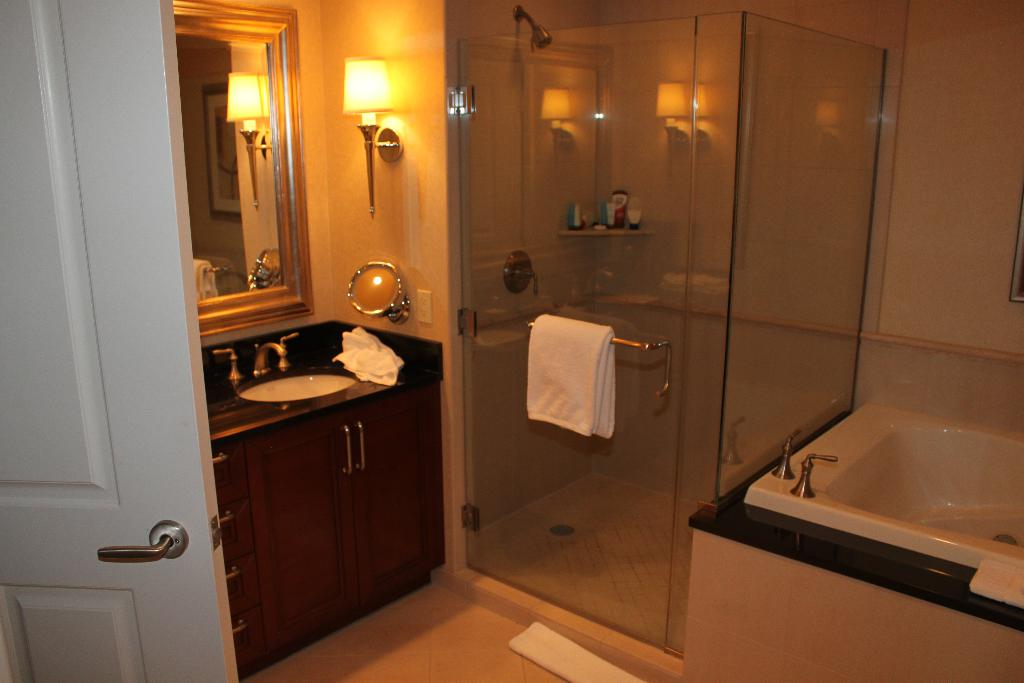tap: (245, 340, 286, 373)
